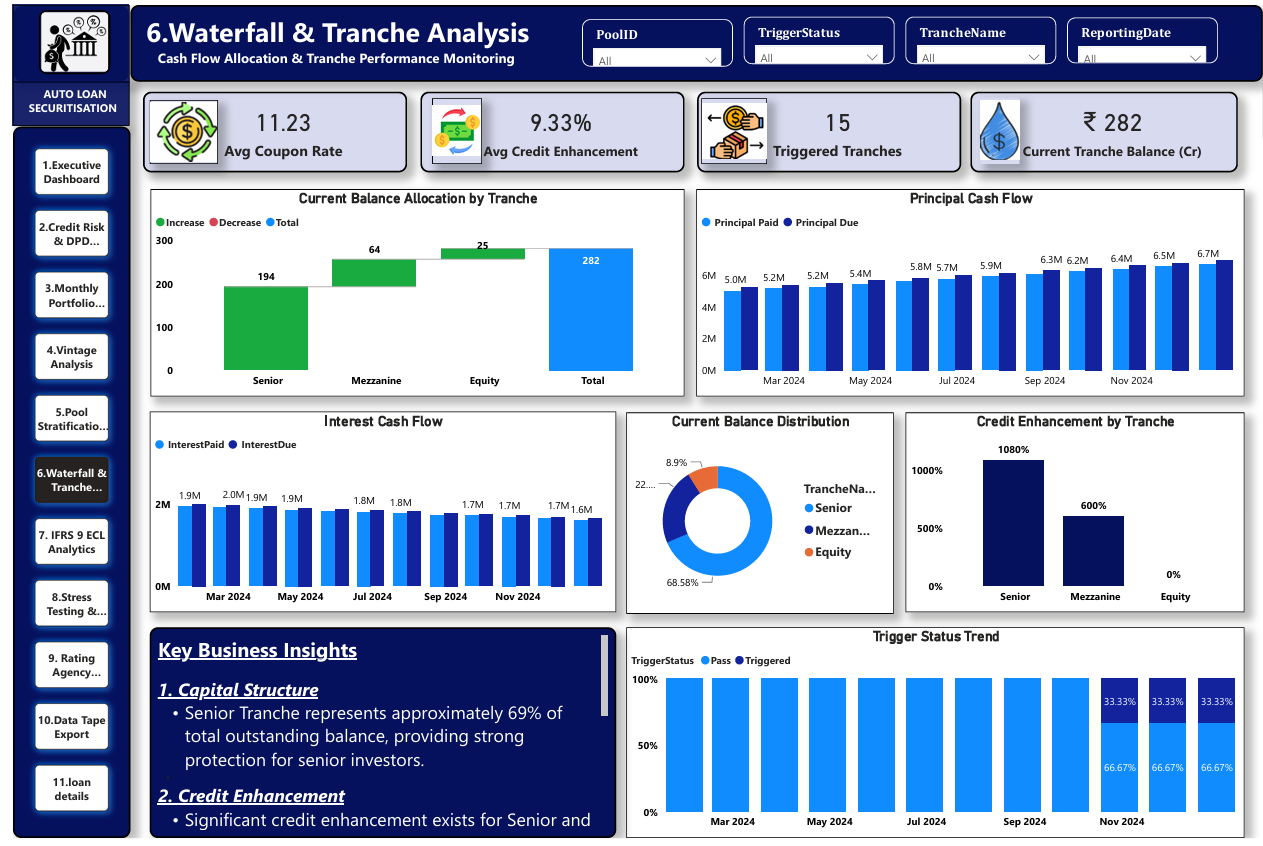

The page's visual inventory and layout, read from the dashboard file:
{"tool":"powerbi","page":{"name":" 6.Waterfall & Tranche Analysis","canvas":[1500,1000],"ordinal":5},"visuals":[{"type":"shape","box":[0,0,139.9,92.9],"z":0},{"type":"textbox","box":[140.8,0,1358.9,92.2],"z":1000},{"type":"image","box":[31.4,6,85.7,77.2],"z":2000},{"type":"textbox","box":[0,91.7,139.9,53.1],"z":3000},{"type":"slicer","fields":{"Values":["Loan Master.PoolID"]},"box":[682.8,16.9,181,56.7],"z":4000},{"type":"slicer","fields":{"Values":["Tranche_Data_Advanced.TriggerStatus"]},"box":[877.1,14.5,181,56.7],"z":5000},{"type":"slicer","fields":{"Values":["Tranche_Data_Advanced.TrancheName"]},"box":[1071.3,14.5,181,56.7],"z":6000},{"type":"card","fields":{"Values":["Tranche_Data_Advanced.Average Coupon Rate"]},"box":[155.8,103.9,316.7,97.2],"z":7000},{"type":"card","fields":{"Values":["Tranche_Data_Advanced.Average Credit Enhancement"]},"box":[489.3,103.9,316.7,97.2],"z":8000},{"type":"card","fields":{"Values":["Tranche_Data_Advanced.Triggered Tranches"]},"box":[821,103.9,316.7,97.2],"z":9000},{"type":"card","fields":{"Values":["Tranche_Data_Advanced.Current Tranche Balance (Cr)"]},"box":[1149.5,103.9,320,97.2],"z":10000},{"type":"pageNavigator","box":[0,145.8,140.8,854.6],"z":11000},{"type":"waterfallChart","title":"Current Balance Allocation by Tranche","fields":{"Category":["Tranche_Data_Advanced.TrancheName"],"Y":["Tranche_Data_Advanced.Current Tranche Balance (Cr)"]},"box":[164.8,220.8,641.5,248.9],"z":12000},{"type":"clusteredColumnChart","title":"Principal Cash Flow","fields":{"Category":["Tranche_Data_Advanced.ReportingDate.Variation.Date Hierarchy.Month"],"Y":["Sum(Tranche_Data_Advanced.PrincipalPaid)","Sum(Tranche_Data_Advanced.PrincipalDue)"]},"box":[820.3,220.8,657.3,248.9],"z":13000},{"type":"clusteredColumnChart","title":"Interest Cash Flow","fields":{"Category":["Tranche_Data_Advanced.ReportingDate.Variation.Date Hierarchy.Month"],"Y":["Sum(Tranche_Data_Advanced.InterestPaid)","Sum(Tranche_Data_Advanced.InterestDue)"]},"box":[164.2,487.6,559.7,241.3],"z":14000},{"type":"donutChart","title":"Current Balance Distribution","fields":{"Y":["Sum(Tranche_Data_Advanced.CurrentBalance)"],"Category":["Tranche_Data_Advanced.TrancheName"]},"box":[735.6,489.3,321.7,241.3],"z":15000},{"type":"columnChart","title":"Credit Enhancement by Tranche","fields":{"Category":["Tranche_Data_Advanced.TrancheName"],"Y":["Sum(Tranche_Data_Advanced.CreditEnhancement)"]},"box":[1070.7,489.3,407.2,239.6],"z":16000},{"type":"hundredPercentStackedColumnChart","title":"Trigger Status Trend","fields":{"Category":["Tranche_Data_Advanced.ReportingDate.Variation.Date Hierarchy.Month"],"Series":["Tranche_Data_Advanced.TriggerStatus"],"Y":["CountNonNull(Tranche_Data_Advanced.TrancheID)"]},"box":[735.6,747.3,742.3,253],"z":17000},{"type":"slicer","fields":{"Values":["Tranche_Data_Advanced.ReportingDate"]},"box":[1265.1,15.1,181,55.3],"z":18000},{"type":"image","box":[164.2,113.9,82.1,77.1],"z":19000},{"type":"image","box":[502.7,112.3,60.3,78.8],"z":20000},{"type":"image","box":[826.1,112.3,78.8,78.8],"z":21000},{"type":"image","box":[1161.2,110.6,46.9,80.4],"z":22000},{"type":"textbox","box":[164.2,747.3,559.7,253],"z":23000}]}

Visuals, with their boxes in screenshot pixels (x1, y1, x2, y2), scaled from the page's 1500x1000 canvas onto the 1263x846 screenshot:
shape: [x1=0, y1=0, x2=118, y2=79]
textbox: [x1=119, y1=0, x2=1262, y2=78]
image: [x1=26, y1=5, x2=99, y2=70]
textbox: [x1=0, y1=78, x2=118, y2=123]
slicer - Loan Master.PoolID: [x1=575, y1=14, x2=727, y2=62]
slicer - Tranche_Data_Advanced.TriggerStatus: [x1=739, y1=12, x2=891, y2=60]
slicer - Tranche_Data_Advanced.TrancheName: [x1=902, y1=12, x2=1054, y2=60]
card - Tranche_Data_Advanced.Average Coupon Rate: [x1=131, y1=88, x2=398, y2=170]
card - Tranche_Data_Advanced.Average Credit Enhancement: [x1=412, y1=88, x2=679, y2=170]
card - Tranche_Data_Advanced.Triggered Tranches: [x1=691, y1=88, x2=958, y2=170]
card - Tranche_Data_Advanced.Current Tranche Balance (Cr): [x1=968, y1=88, x2=1237, y2=170]
pageNavigator: [x1=0, y1=123, x2=119, y2=845]
"Current Balance Allocation by Tranche" waterfallChart: [x1=139, y1=187, x2=679, y2=397]
"Principal Cash Flow" clusteredColumnChart: [x1=691, y1=187, x2=1244, y2=397]
"Interest Cash Flow" clusteredColumnChart: [x1=138, y1=413, x2=610, y2=617]
"Current Balance Distribution" donutChart: [x1=619, y1=414, x2=890, y2=618]
"Credit Enhancement by Tranche" columnChart: [x1=902, y1=414, x2=1244, y2=617]
"Trigger Status Trend" hundredPercentStackedColumnChart: [x1=619, y1=632, x2=1244, y2=845]
slicer - Tranche_Data_Advanced.ReportingDate: [x1=1065, y1=13, x2=1218, y2=60]
image: [x1=138, y1=96, x2=207, y2=162]
image: [x1=423, y1=95, x2=474, y2=162]
image: [x1=696, y1=95, x2=762, y2=162]
image: [x1=978, y1=94, x2=1017, y2=162]
textbox: [x1=138, y1=632, x2=610, y2=845]
